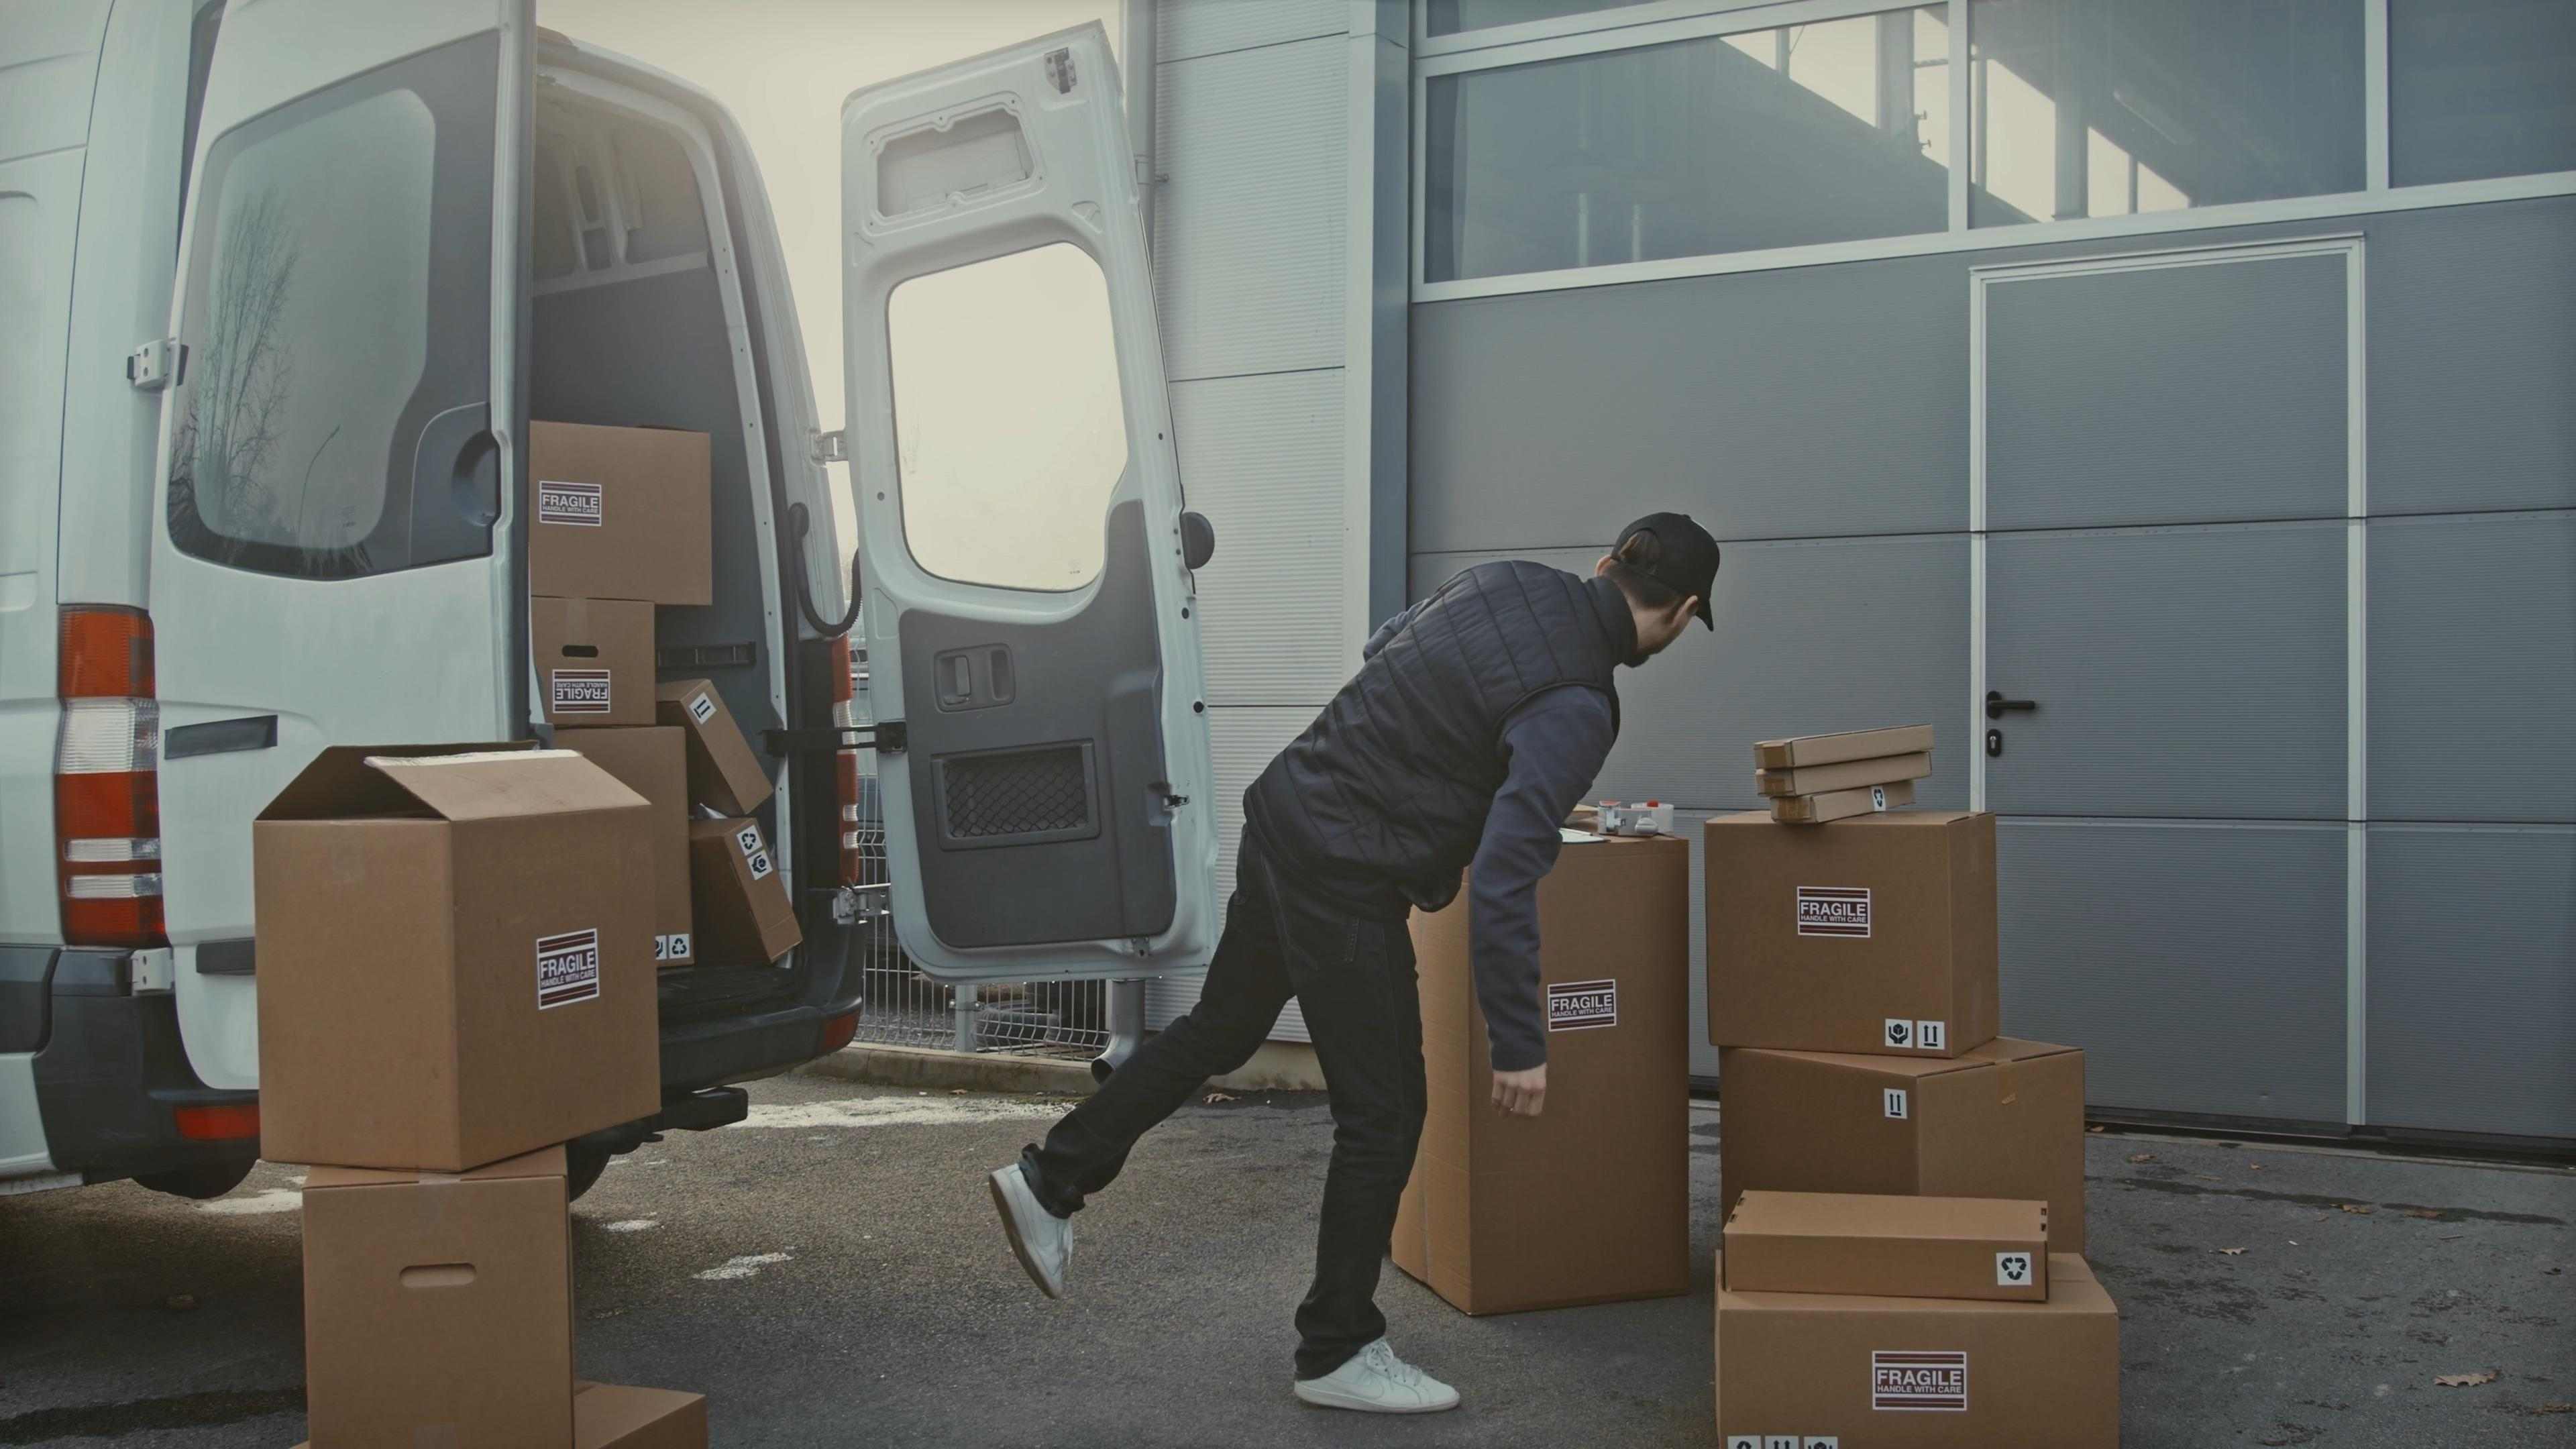-: (239, 732, 676, 1177), (1407, 842, 1697, 1309), (1711, 1242, 2120, 1449), (1711, 801, 2013, 1058), (299, 1171, 577, 1442), (1721, 1058, 2086, 1194), (527, 419, 732, 609), (1721, 1194, 2068, 1288), (538, 605, 662, 717)
